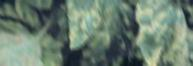Tomato mold leaf: (63, 0, 140, 53), (137, 0, 187, 65), (0, 31, 40, 66)
